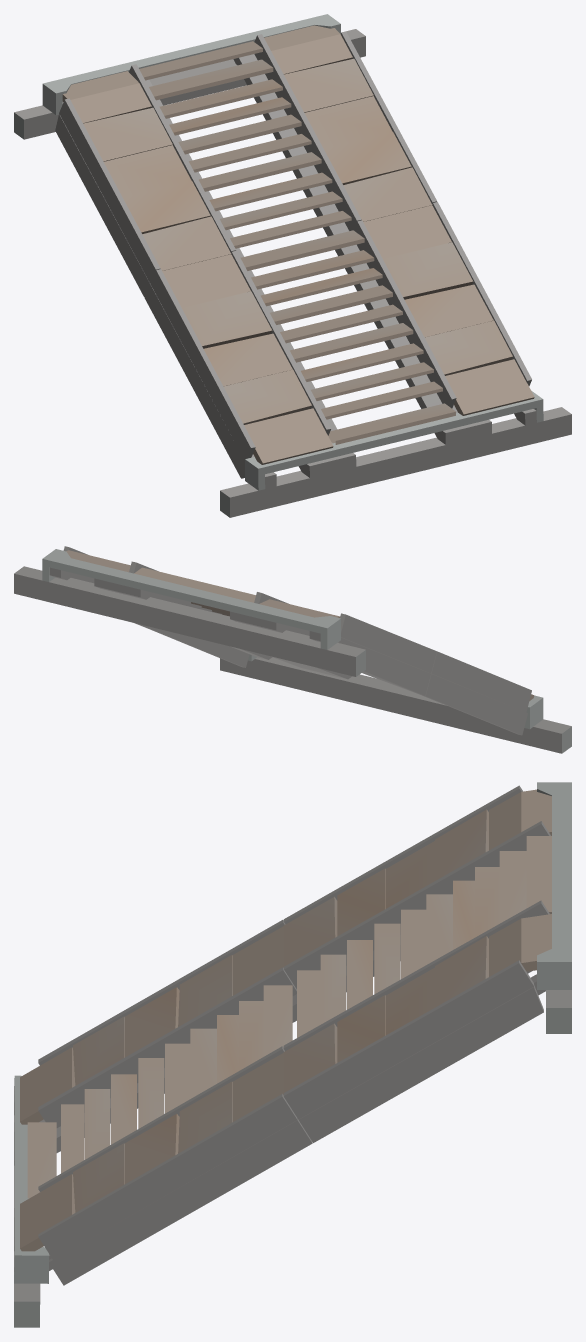
The picture shows the model from 3 angles, top to bottom: view 1: azimuth 30°, elevation 25°; view 2: azimuth 150°, elevation 25°; view 3: azimuth 270°, elevation 25°; orthographic projection. The views are drawn at different scales.
Visible parts, largest first — view 1: G:\FFXIV-MapTools\exports\s1f3\bg\ffxiv\sea_s1\fld\s1f3\bgpa (×3); view 2: G:\FFXIV-MapTools\exports\s1f3\bg\ffxiv\sea_s1\fld\s1f3\bgpa (×3); view 3: G:\FFXIV-MapTools\exports\s1f3\bg\ffxiv\sea_s1\fld\s1f3\bgpa (×3).
Boxes of the visible parts, x1,y1,x2,y2 form: G:\FFXIV-MapTools\exports\s1f3\bg\ffxiv\sea_s1\fld\s1f3\bgpa (×3): [14, 14, 571, 517]; G:\FFXIV-MapTools\exports\s1f3\bg\ffxiv\sea_s1\fld\s1f3\bgpa (×3): [14, 546, 571, 753]; G:\FFXIV-MapTools\exports\s1f3\bg\ffxiv\sea_s1\fld\s1f3\bgpa (×3): [14, 782, 571, 1327].
Size of the model in its own units: 7.38 by 5.71 by 8.07.
